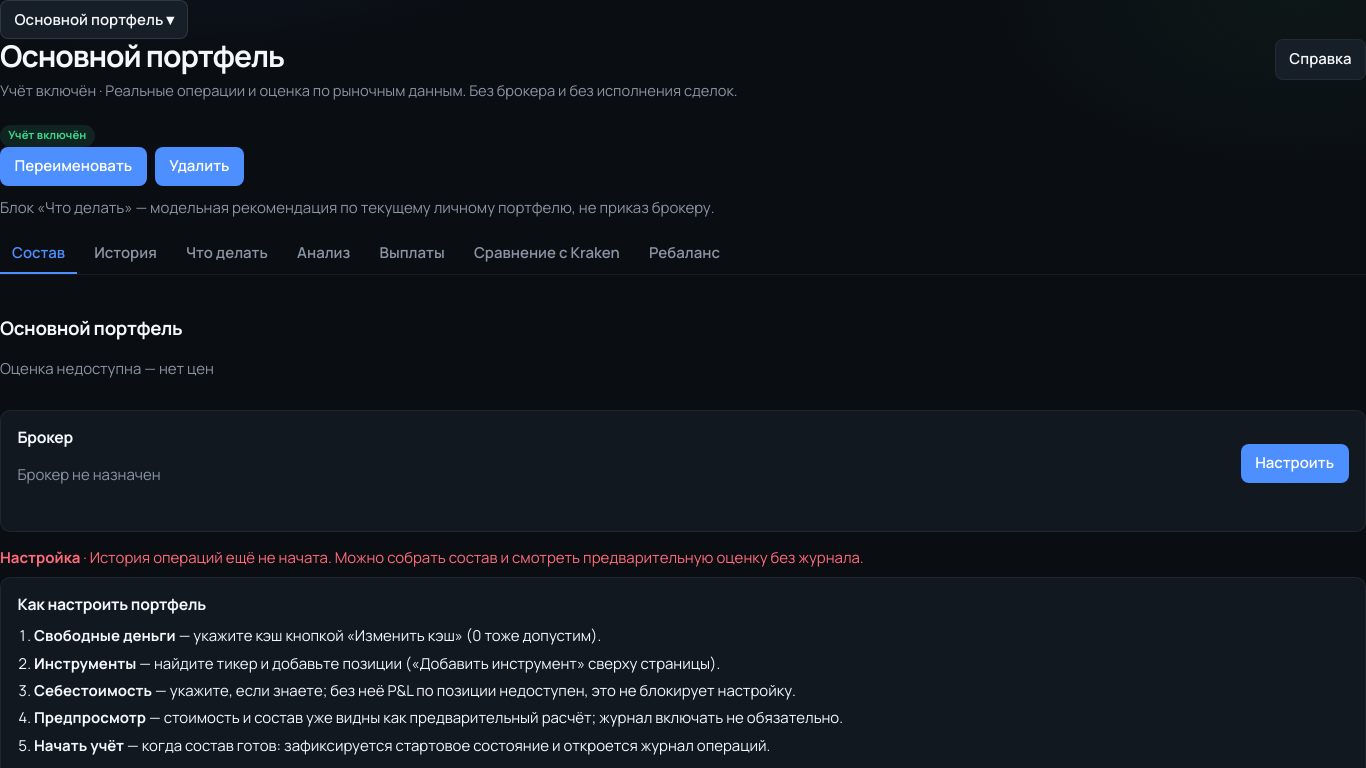
MyPortfolioPage › loads compare tab
Step 1. Click the button with test id "tab-compare" → (547, 254), box [462, 234, 632, 274]
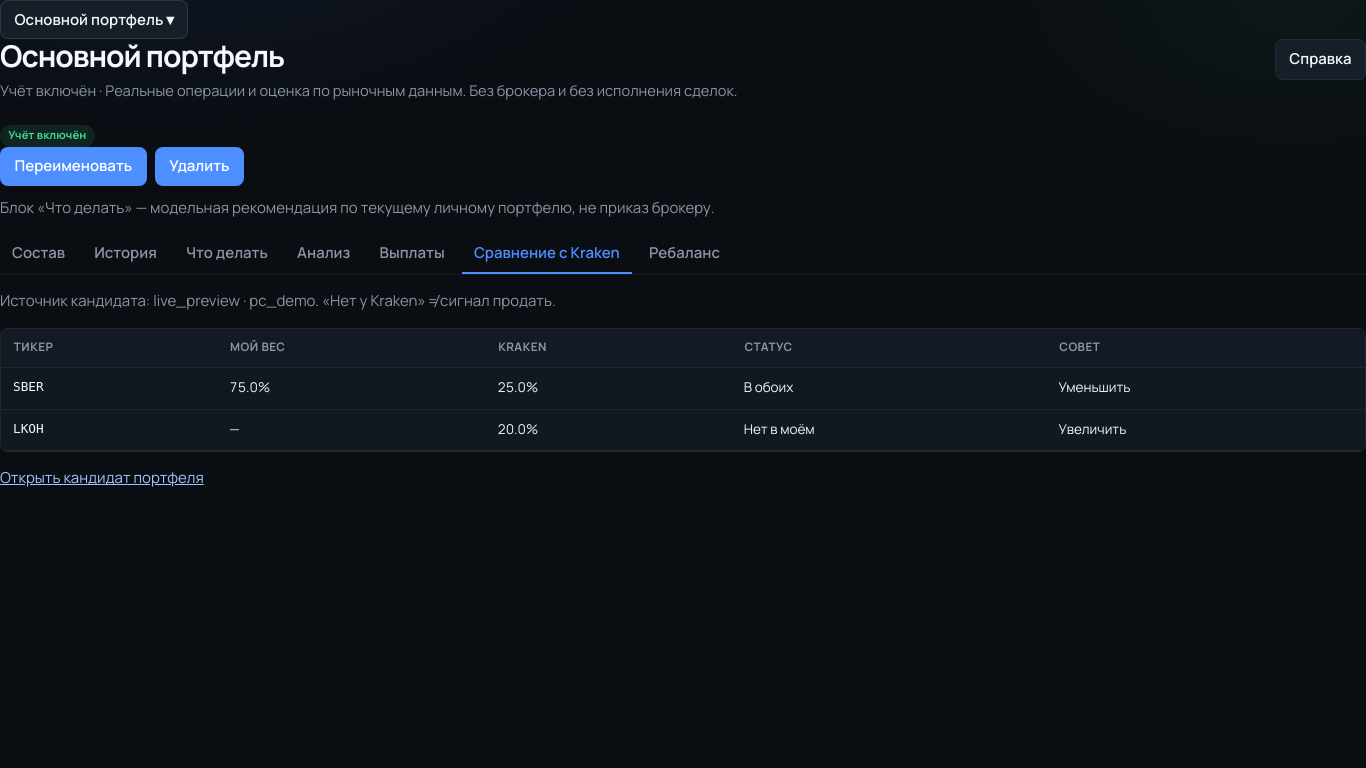
Expected: the text "LKOH" is shown, [1, 409, 217, 451]
